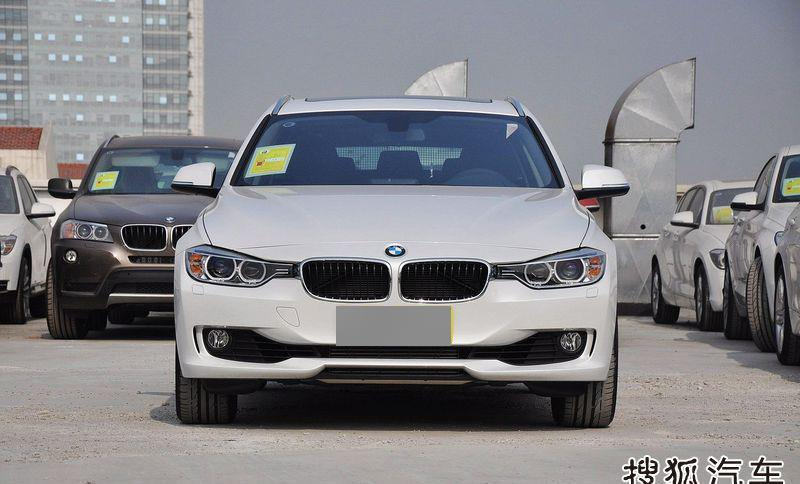Wagon: (169, 92, 632, 428)
